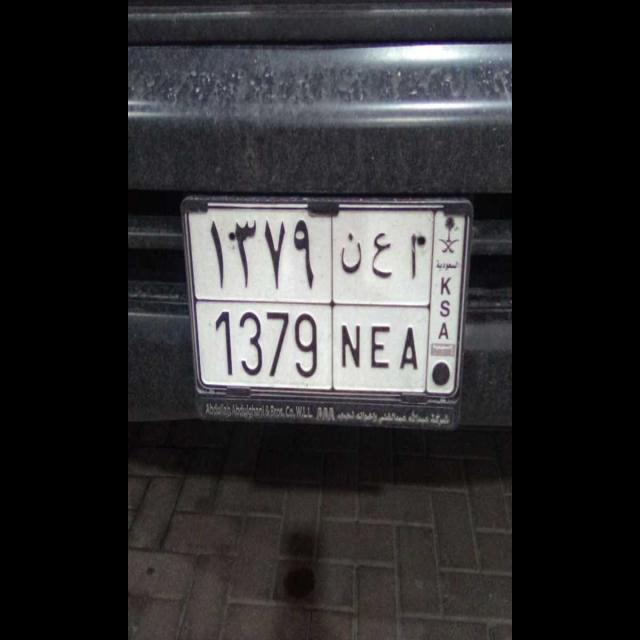license_plate: (200, 298, 426, 392)
